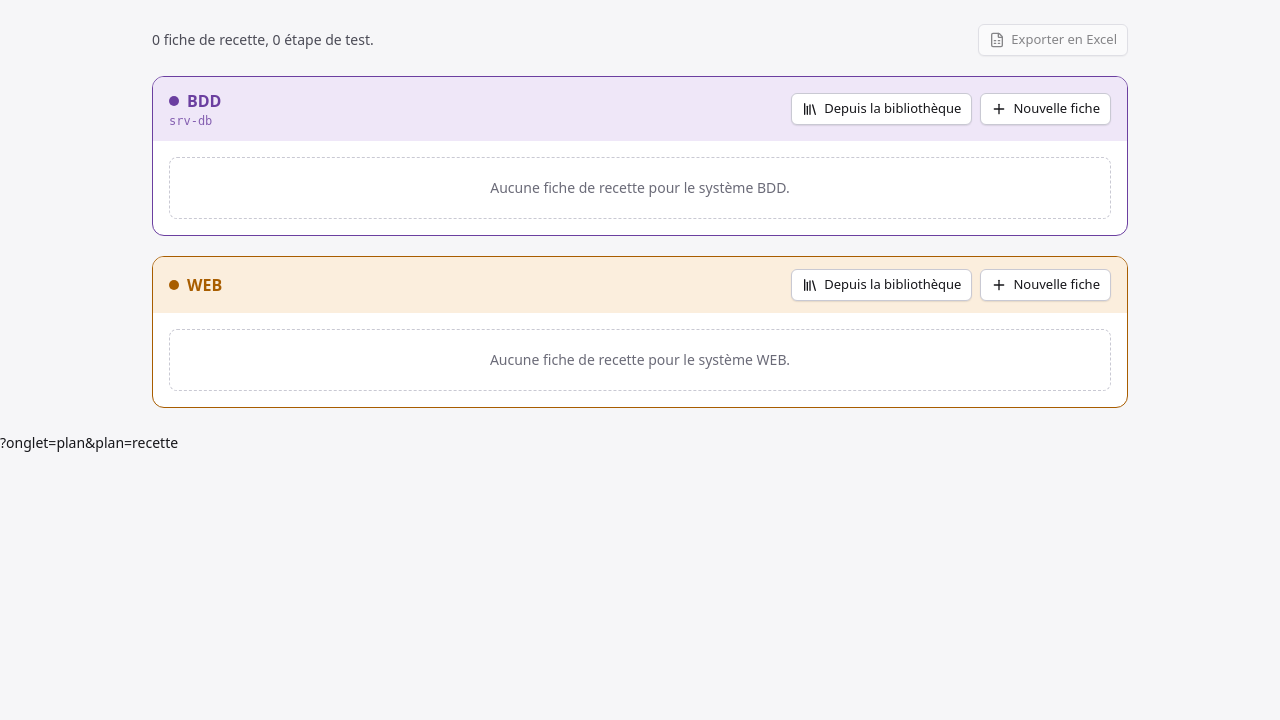
Test case: Onglet Recette › en préparation, « Nouvelle fiche » crée la fiche dans le système puis ouvre sa page
The image size is (1280, 720).
Click the button with aria-label "Nouvelle fiche WEB" at (1046, 285), box x1=980 y1=269 x2=1111 y2=301
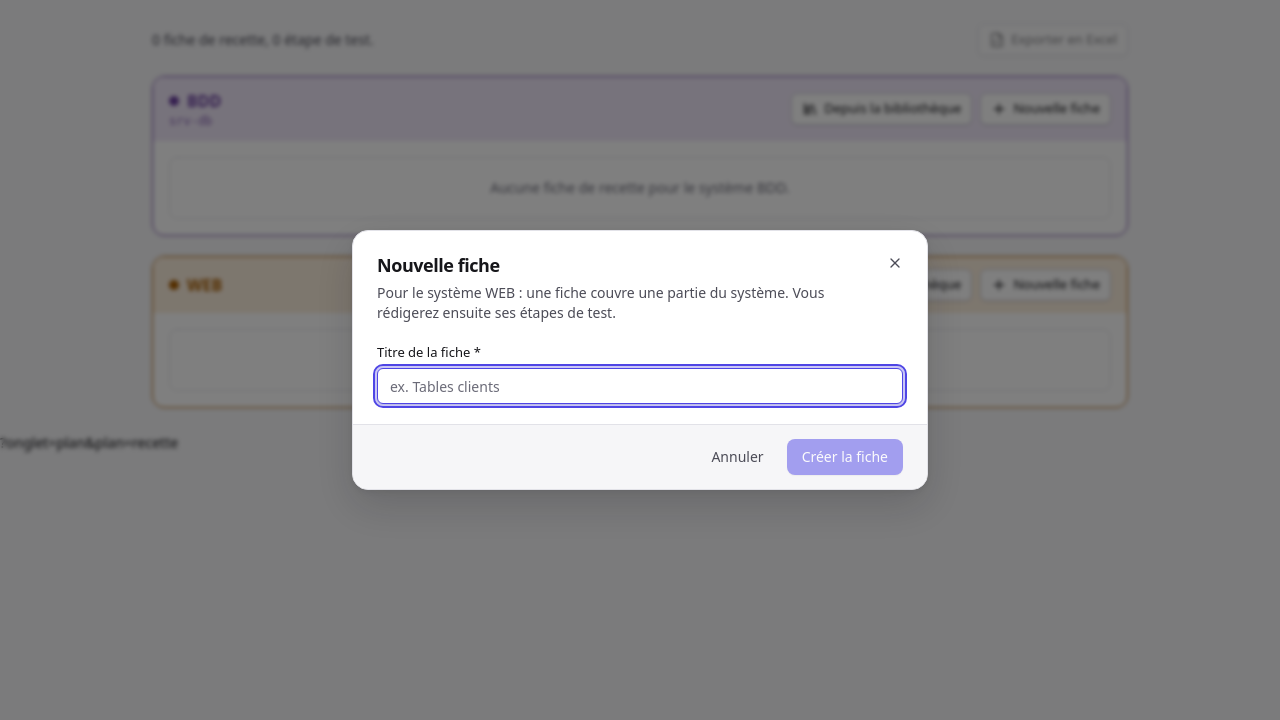
Type "Page d’accueil" into the field labelled "Titre de la fiche *" at (640, 386), box x1=377 y1=368 x2=903 y2=404
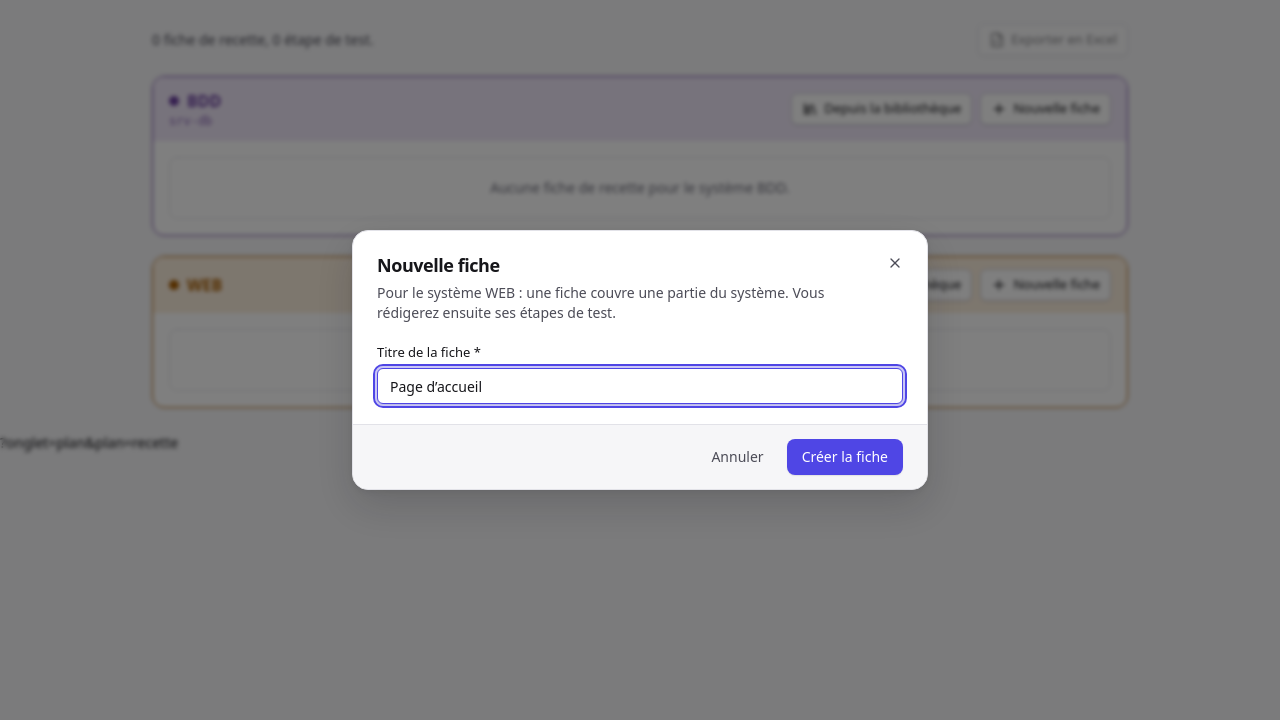
Click the button "Créer la fiche" at (845, 457), box x1=787 y1=439 x2=903 y2=475
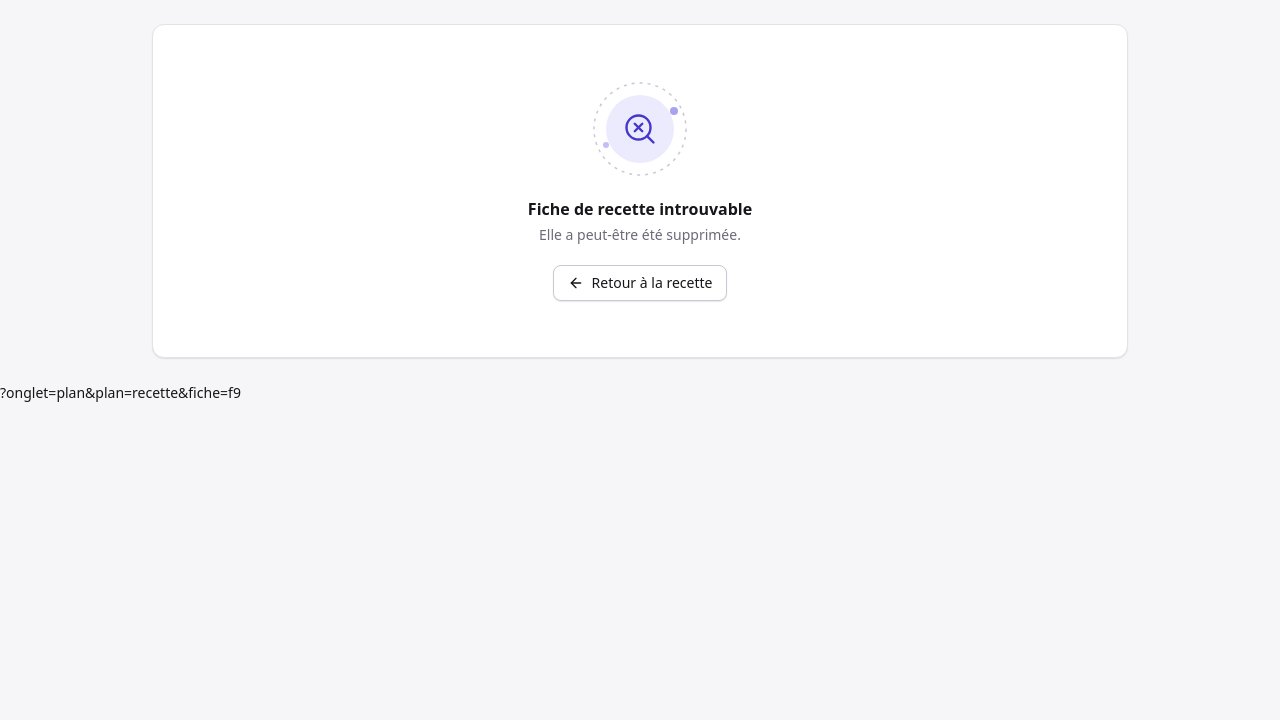
Result: the text with test id "adresse" shows "fiche=f9" at x1=0 y1=383 x2=241 y2=402
